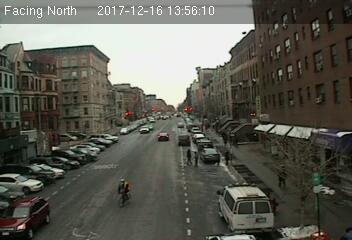bicycle: (116, 176, 133, 208)
car: (1, 194, 50, 237), (203, 148, 221, 164), (178, 134, 191, 144), (158, 132, 169, 140)
pedestrian: (278, 164, 287, 188)
police: (214, 182, 275, 231)
